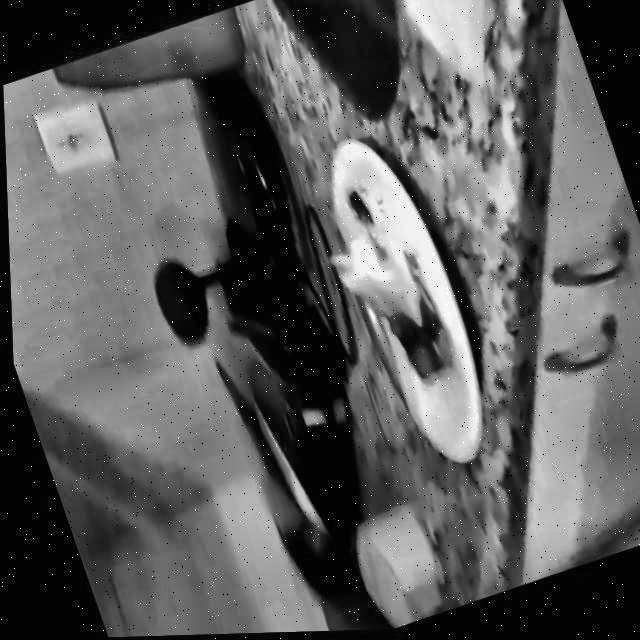Fire: (321, 225, 433, 342)
